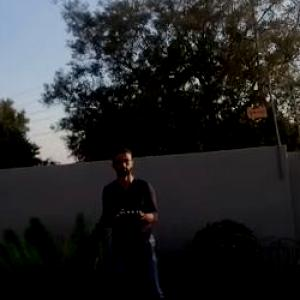follow: (96, 138, 176, 299)
